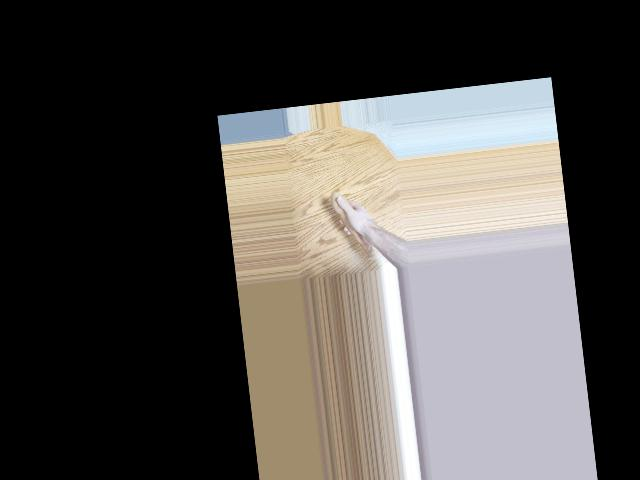sweet_potato: (328, 187, 377, 266)
